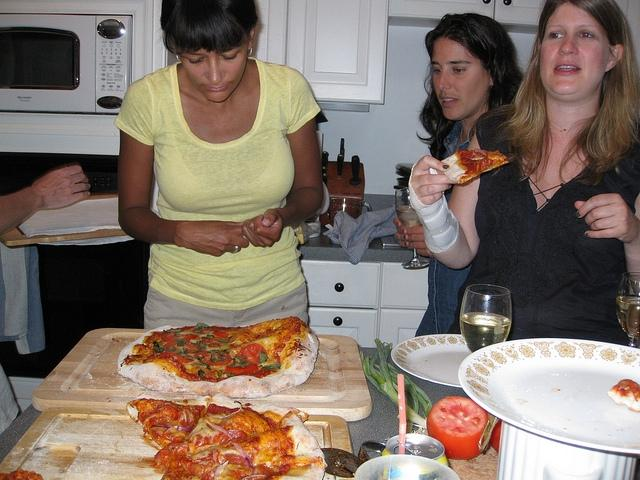tomato: (426, 396, 488, 460), (236, 342, 266, 364), (194, 350, 232, 366), (156, 352, 194, 363), (490, 419, 502, 452), (225, 364, 258, 374), (161, 332, 178, 342), (183, 334, 200, 341), (478, 158, 486, 172), (212, 331, 229, 337)
